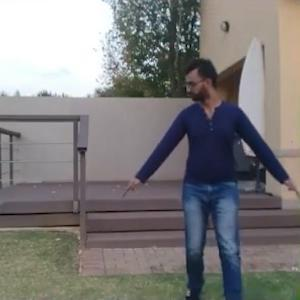land: (119, 55, 298, 295)
